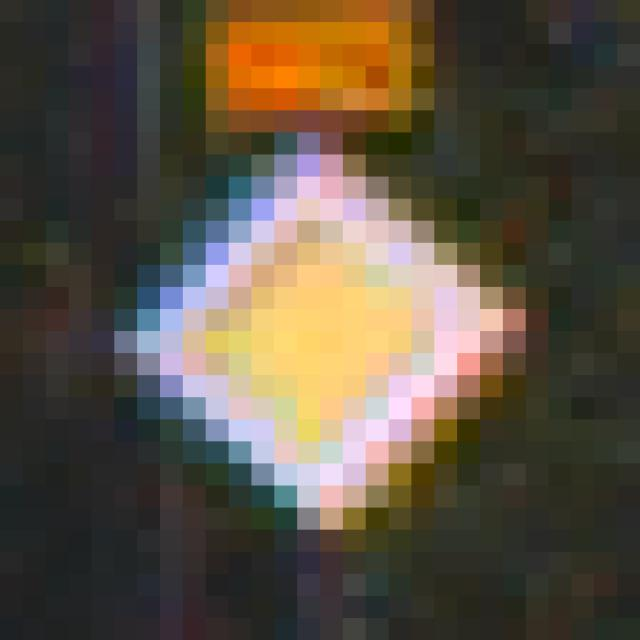Main Road: (115, 112, 527, 509)
